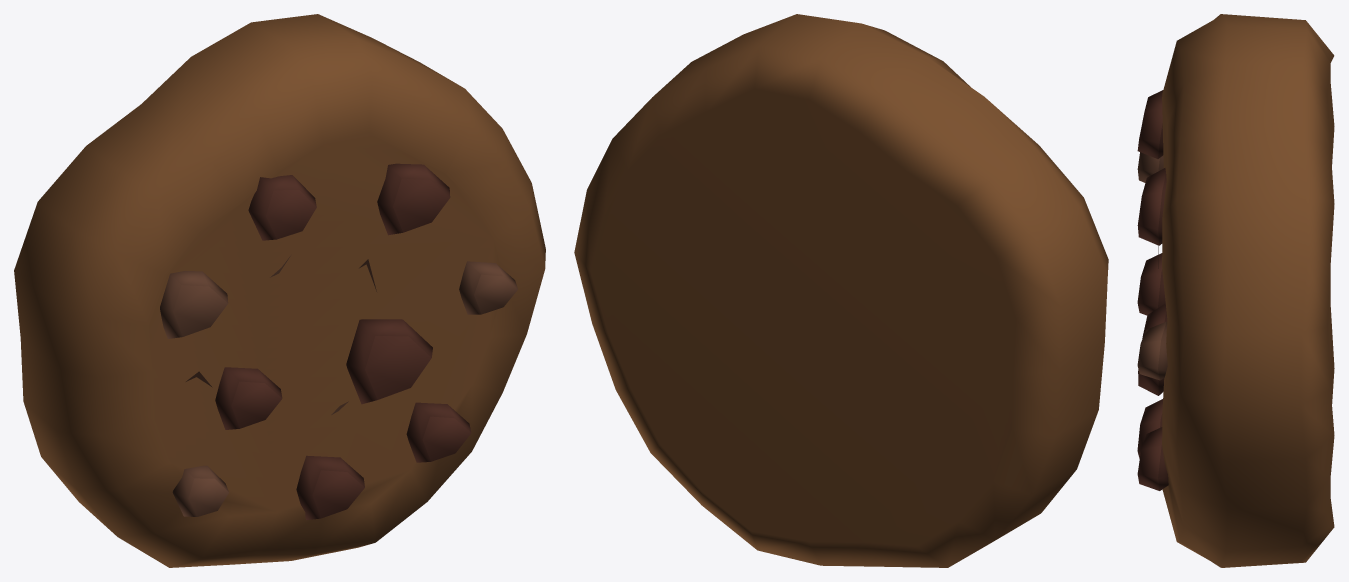
Rendered from snack_cookie.glb.
The picture shows the model from 3 angles, left to right: view 1: azimuth 30°, elevation 25°; view 2: azimuth 150°, elevation 25°; view 3: azimuth 270°, elevation 25°; orthographic projection.
Parts seen in each view (by area): view 1: Craggy baked edge; view 2: Craggy baked edge; view 3: Craggy baked edge.
Boxes of the visible parts, x1,y1,x2,y2 form: Craggy baked edge: (14,14,545,567); Craggy baked edge: (574,14,1108,567); Craggy baked edge: (1137,14,1334,567).
Size of the model in its own units: 1.05 by 1.05 by 0.366.
